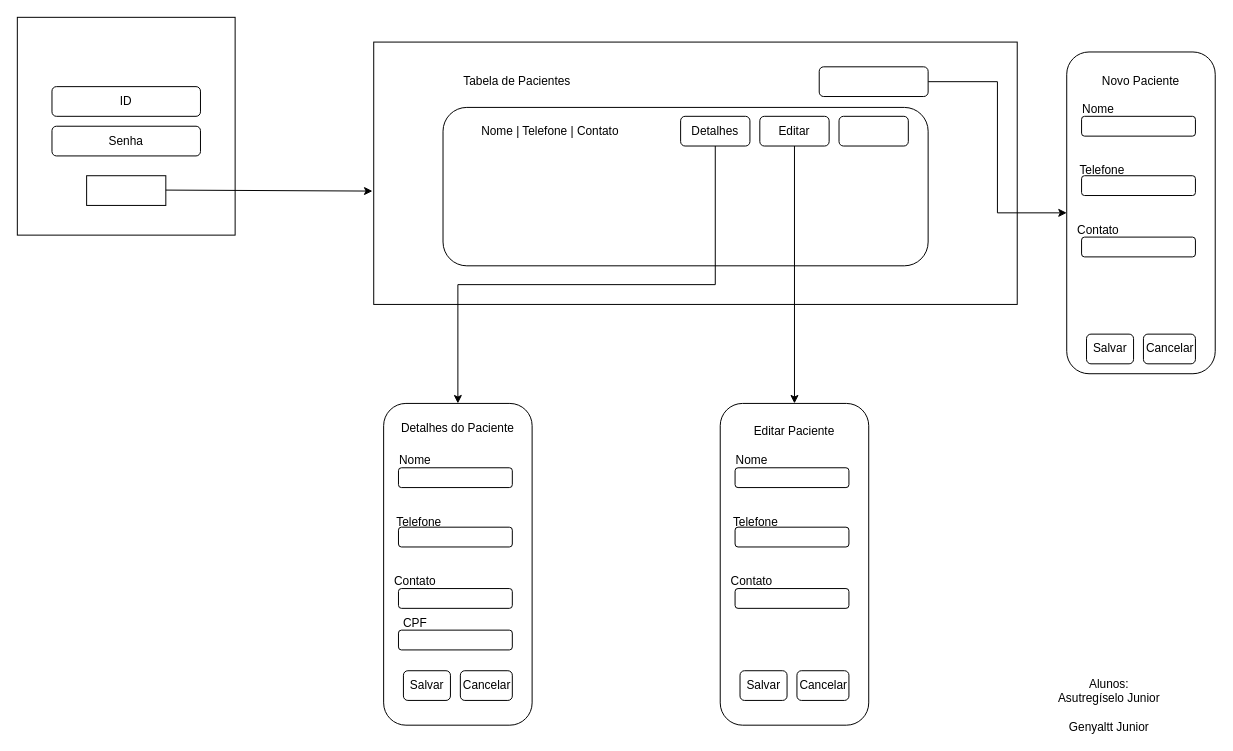
Image size: 1233x751. Some labels were removed from this diagram. Each missing label, with the box of its shape:
Adicinar paciente: (818, 66, 928, 97)
Deletar: (838, 115, 908, 146)
Login: (86, 175, 166, 205)
